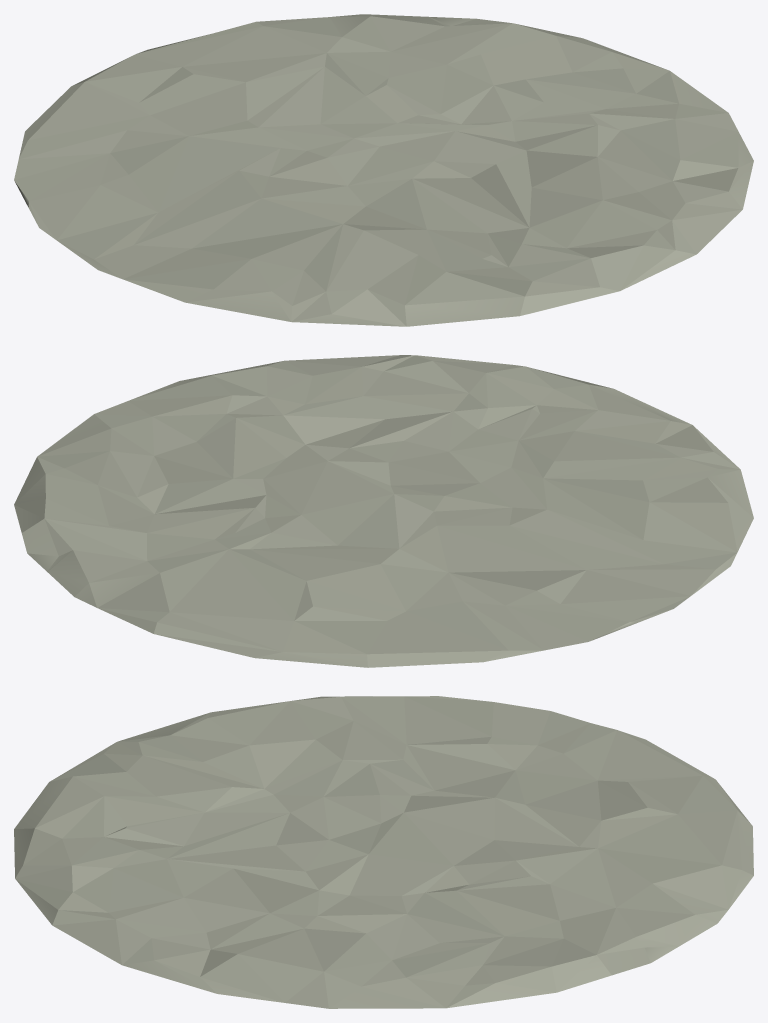
Rendered from 沙石地.fbx.
3 renders of one model, top to bottom at view 1: azimuth 30°, elevation 25°; view 2: azimuth 150°, elevation 25°; view 3: azimuth 270°, elevation 25°, orthographic.
Visible parts, largest first — view 1: 沙石地; view 2: 沙石地; view 3: 沙石地.
Boxes of the visible parts, left/top/right/bottom form: 沙石地: left=14, top=14, right=753, bottom=326; 沙石地: left=14, top=355, right=753, bottom=667; 沙石地: left=14, top=696, right=753, bottom=1008.
Bounding box in the file's own units: 682 × 31.45 × 682.
